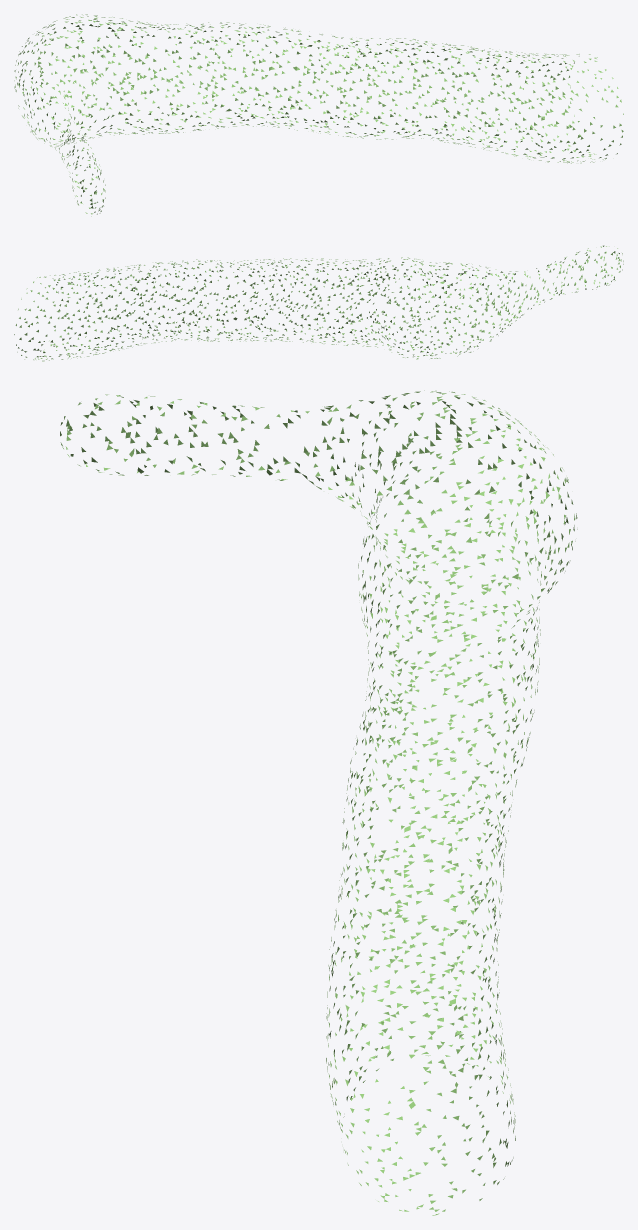
Rendered from morph_014.glb.
3 views of the same model, one above another, from view 1: azimuth 30°, elevation 25°; view 2: azimuth 150°, elevation 25°; view 3: azimuth 270°, elevation 25° (orthographic). The views are drawn at different scales.
Size of the model in its own units: 128 by 48.67 by 57.22.
